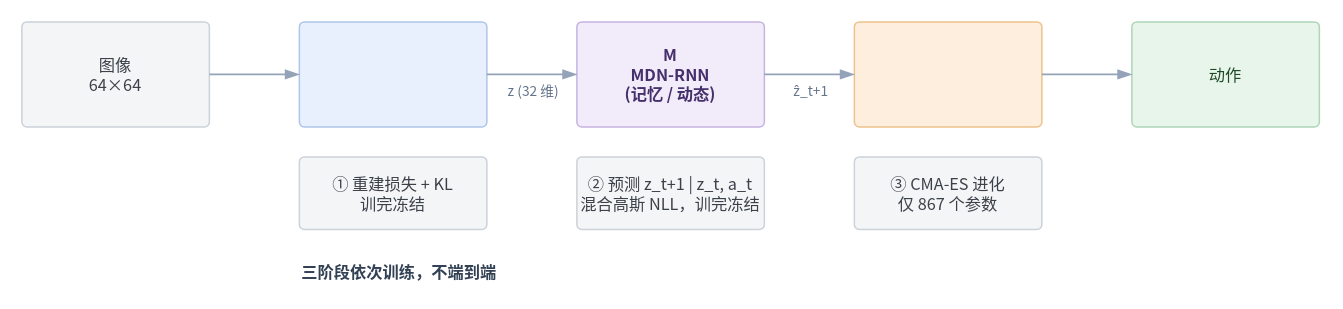
Image size: 1343x309. Some labels were removed from this diagram. Here are the shapes that lost their labels. From the top down, the centre of each, then its label:
(392,73): V VAE (视觉压缩)
(947,73): C 线性层 (控制器)
